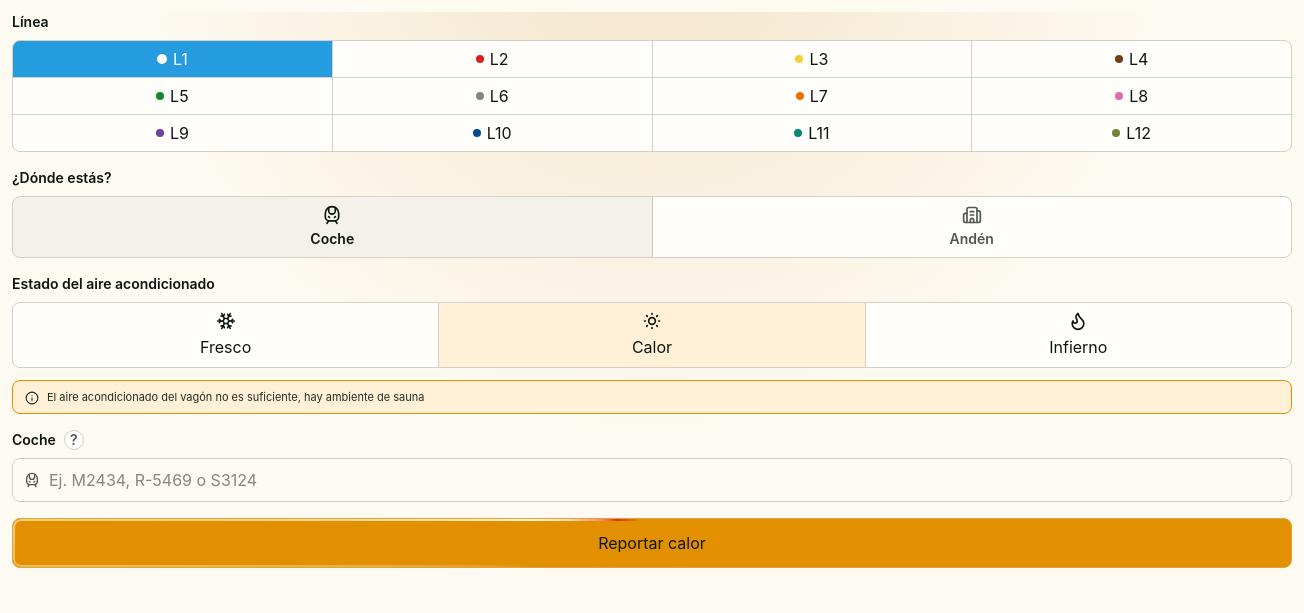
Test: report controls › blocks cars that do not exist on the selected line and revalidates on line changes
In the field with placeholder "Ej. M2434, R-5469 o S3124": (652, 480) [12,458,1292,502], type "M3000"
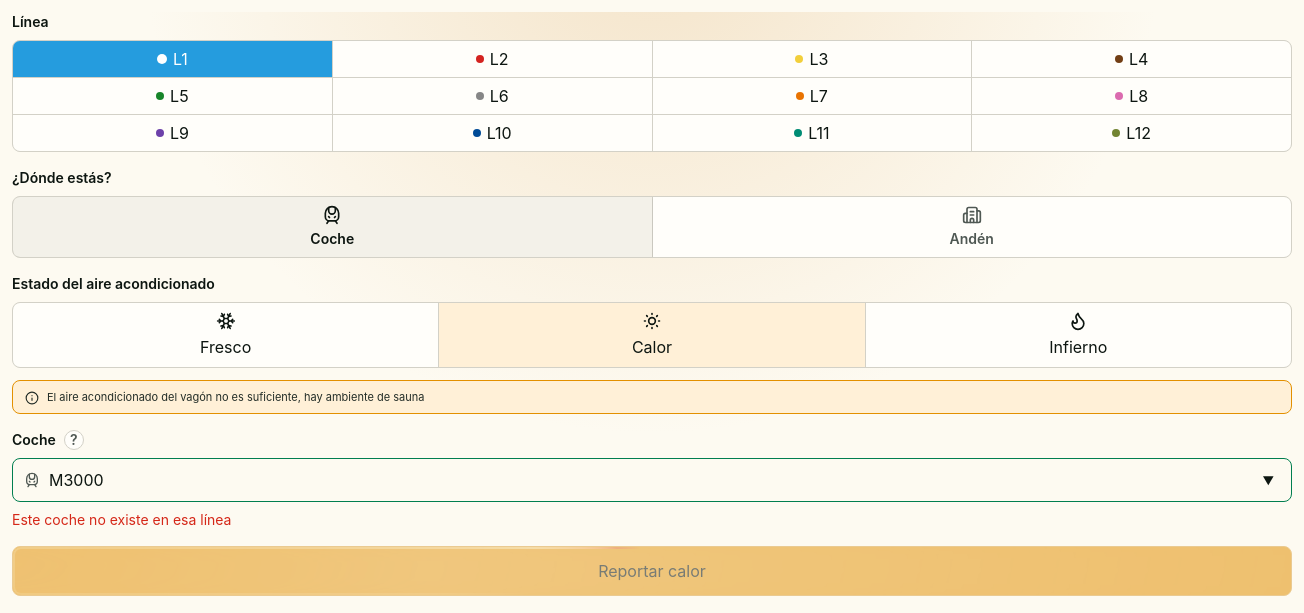
Now the text "Este coche no existe en esa línea" is shown, box [12,511,232,528]
Now the button with test id "submit-report" is disabled, box [12,546,1292,596]
Click the button "L2": (492, 59) [333,41,652,77]
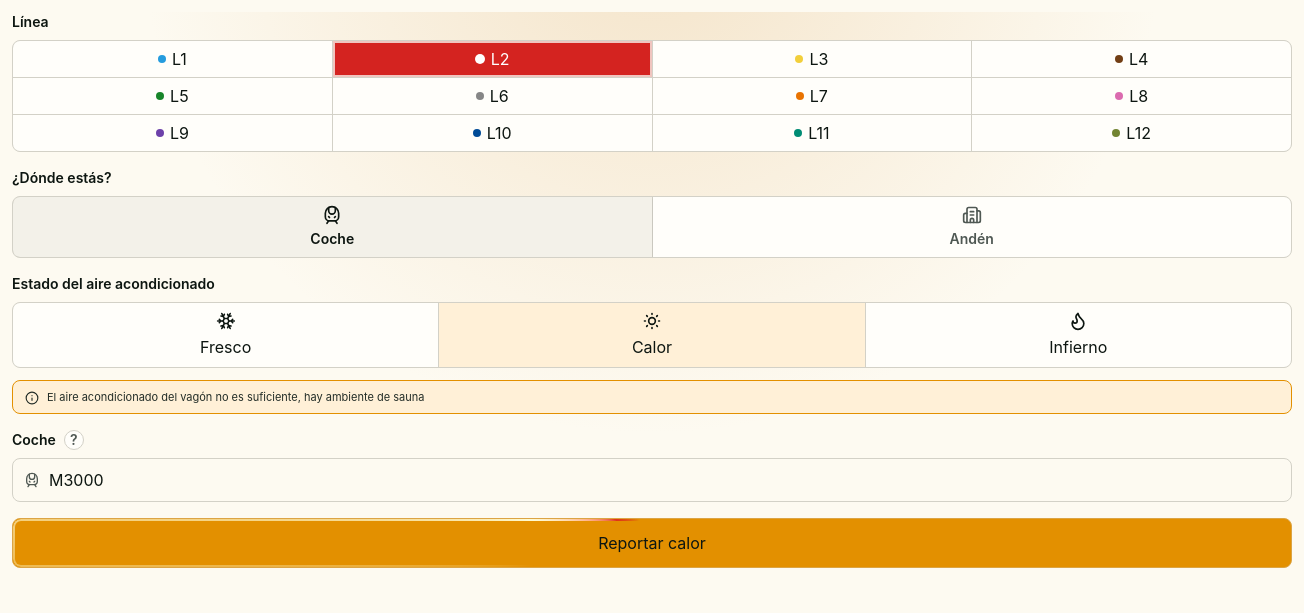
Now the text "Este coche no existe en esa línea" is gone
Now the button with test id "submit-report" is enabled, box [12,518,1292,568]
